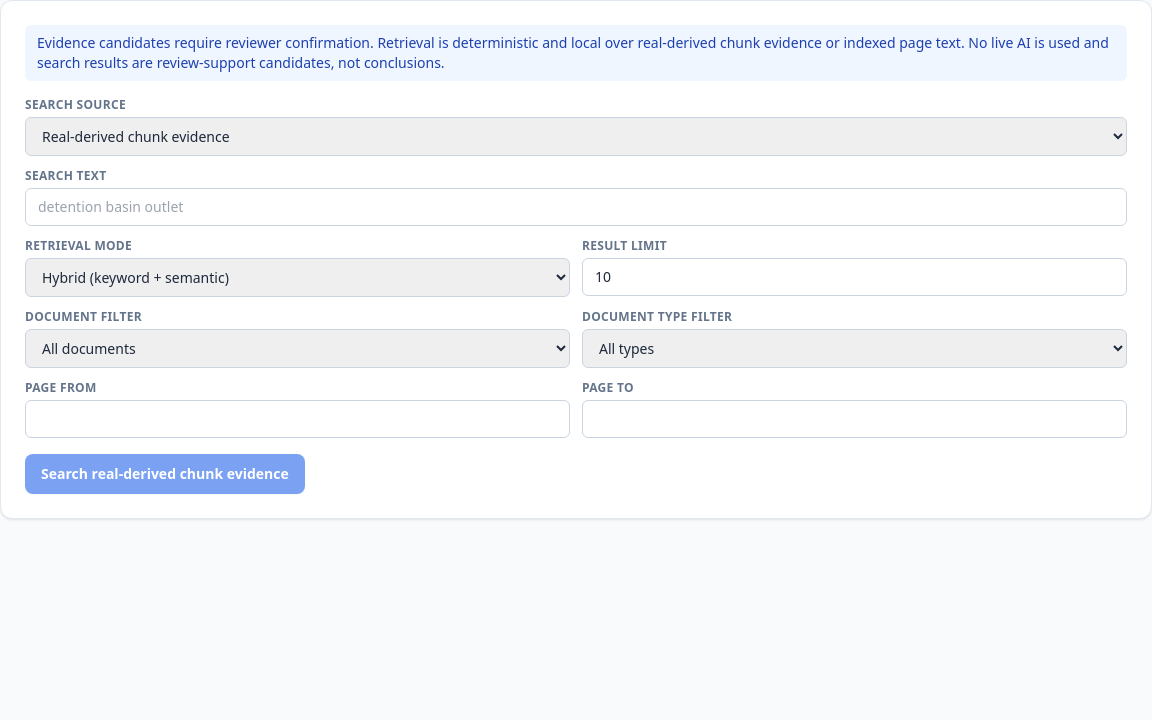
Professional boundary in chunk evidence UI › introduces no banned vocabulary in the search UI
The image size is (1152, 720).
Type "detention basin" into the field with placeholder "detention basin outlet" at coordinates (576, 207), box left=25, top=188, right=1127, bottom=226
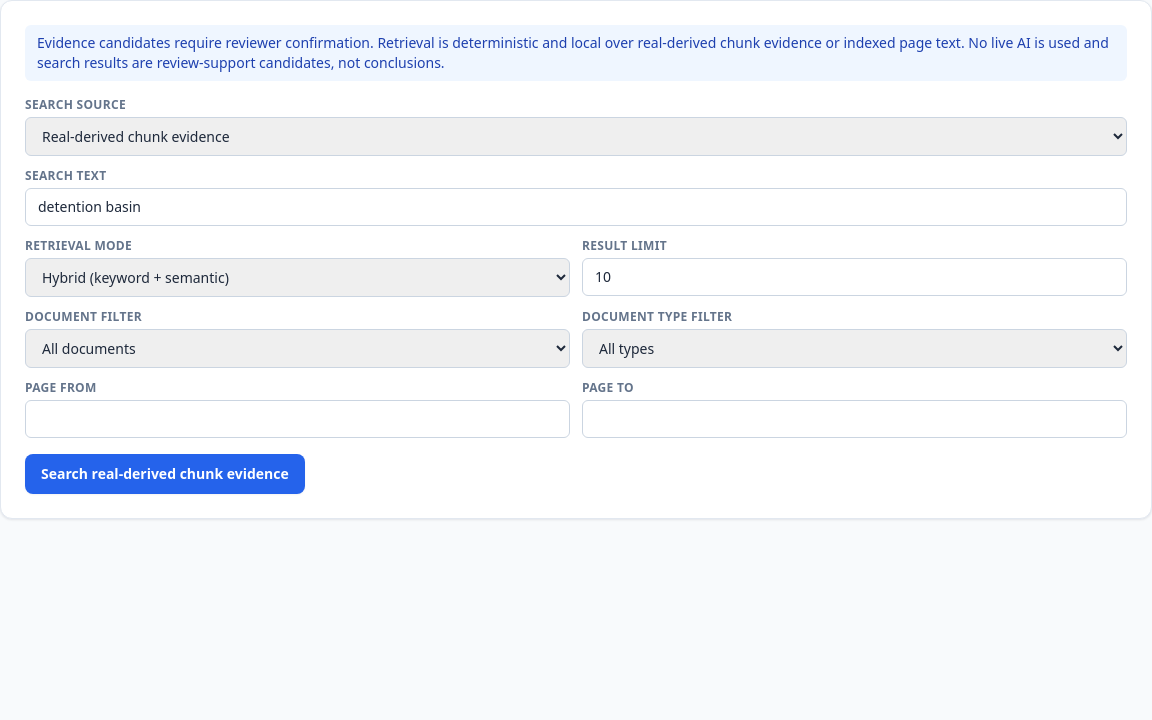
Click the button "Search real-derived chunk evidence" at coordinates (165, 474), box left=25, top=454, right=305, bottom=494
(page scrolled)
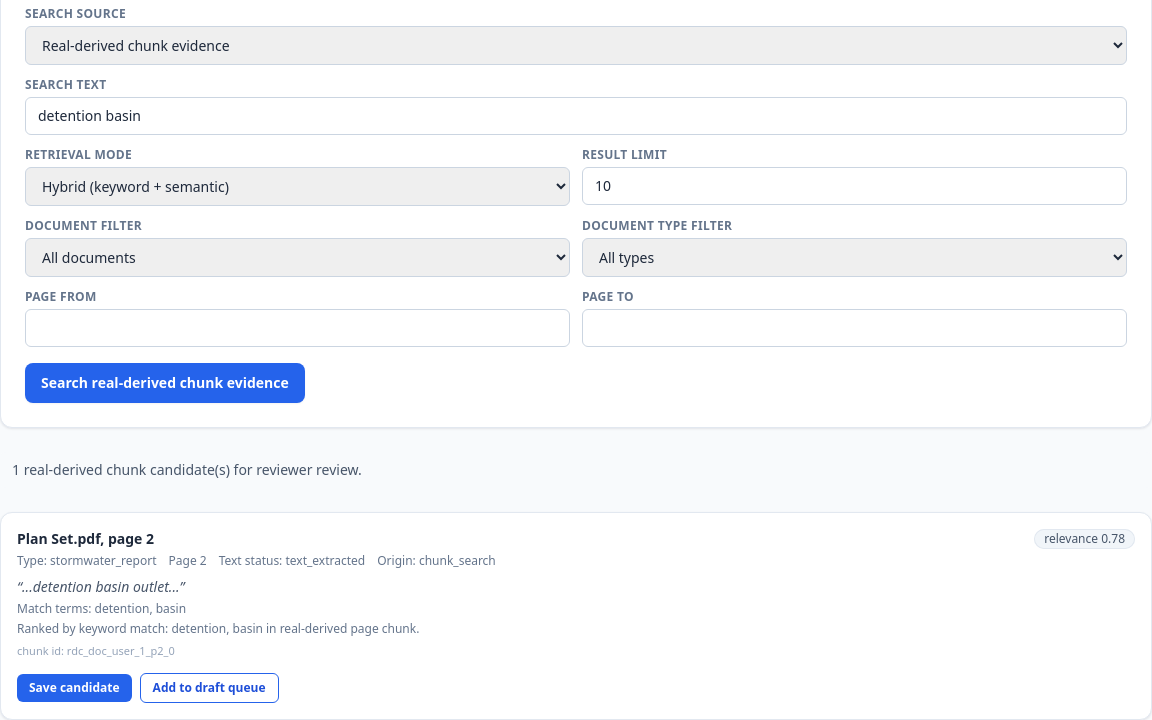
Now the button "Save candidate" is shown, box left=17, top=674, right=132, bottom=702
